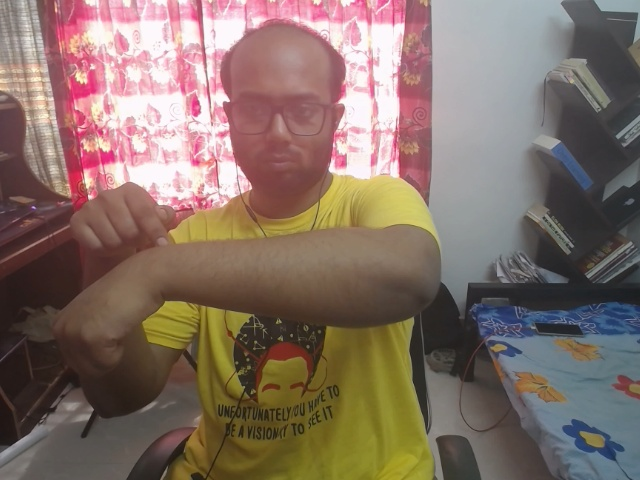time: (29, 175, 255, 394)
